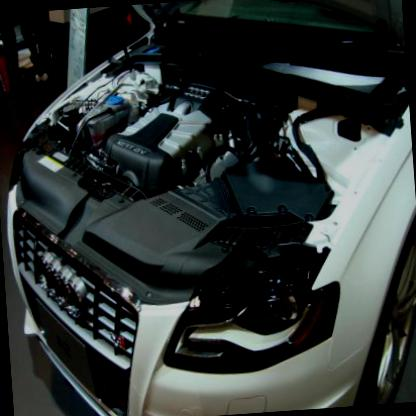car: (7, 20, 409, 415)
